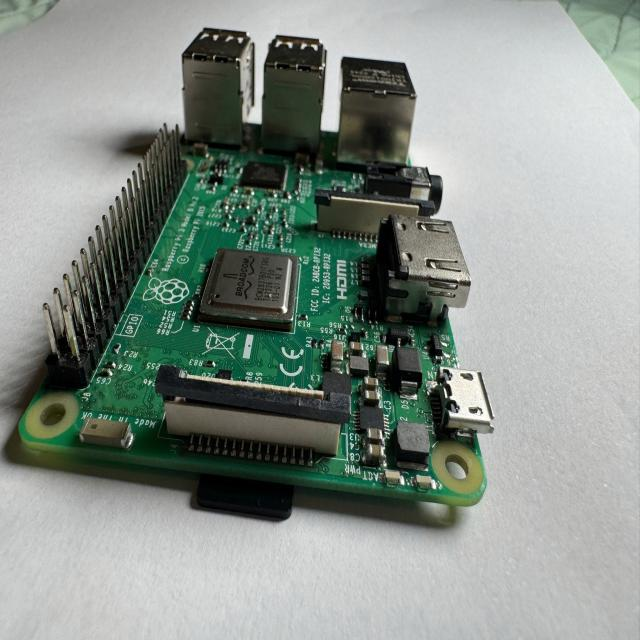CPU: (199, 250, 300, 334)
Ethernet: (338, 56, 418, 169)
GPIO: (44, 128, 191, 392)
HDMI: (368, 218, 473, 328)
RAM-3: (238, 158, 289, 197)
Raspberry: (12, 29, 494, 528)
